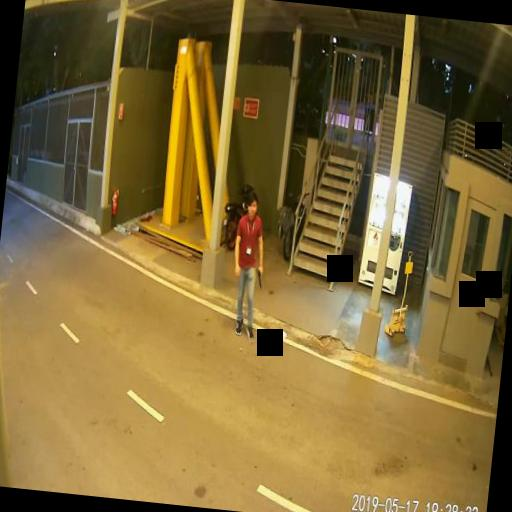Handgun: (255, 266, 263, 288)
